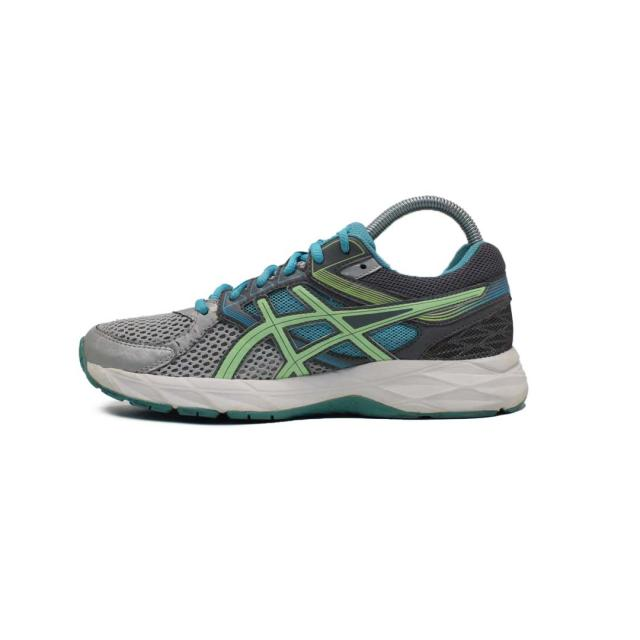heel: (460, 242, 514, 356)
midsole: (81, 351, 530, 423)
uppersole: (80, 221, 477, 379)
